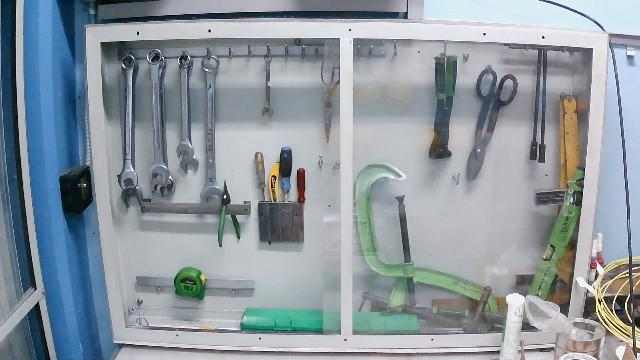tang_cucut_lancip_2: (217, 177, 243, 250)
